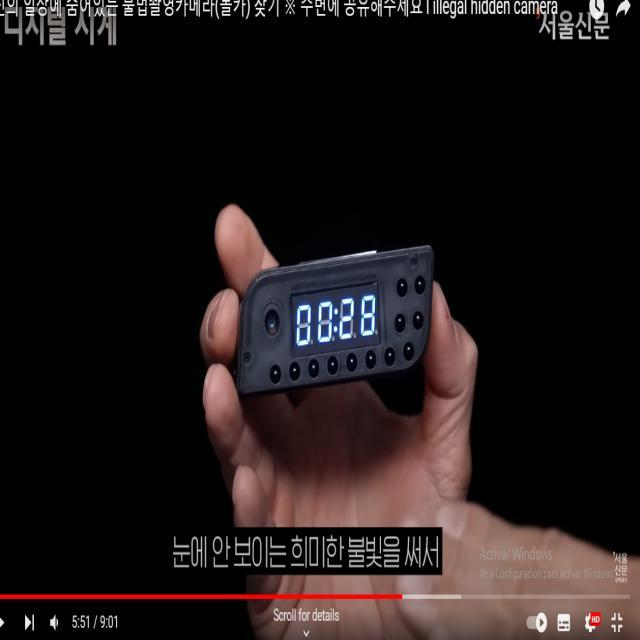hidden camera: (265, 307, 280, 338)
